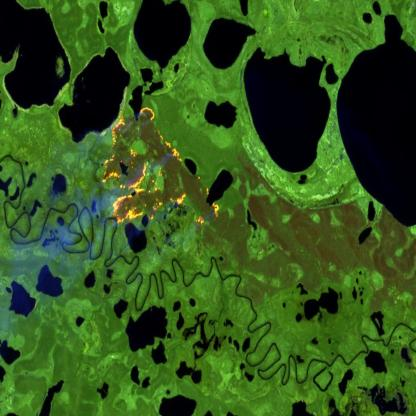fire: (92, 98, 222, 235)
